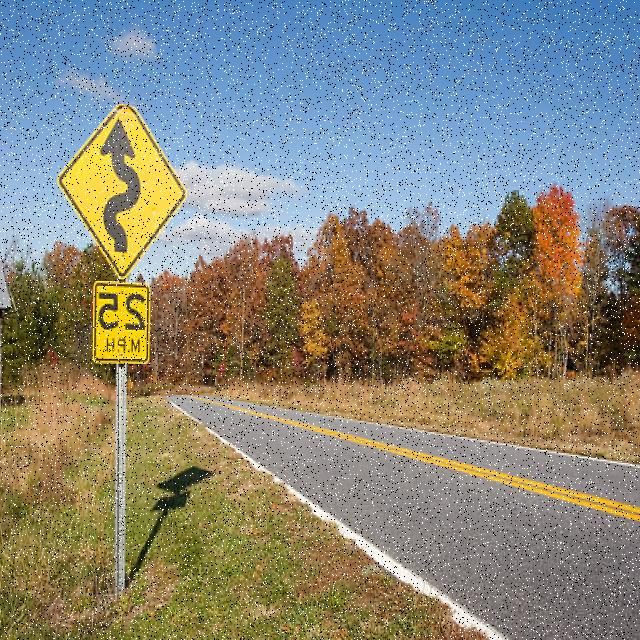left_sharp_curve: (50, 88, 196, 277)
